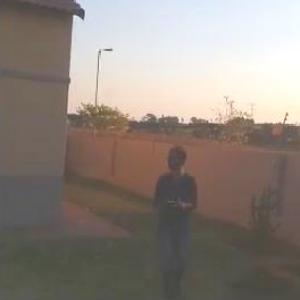follow: (150, 143, 205, 299)
